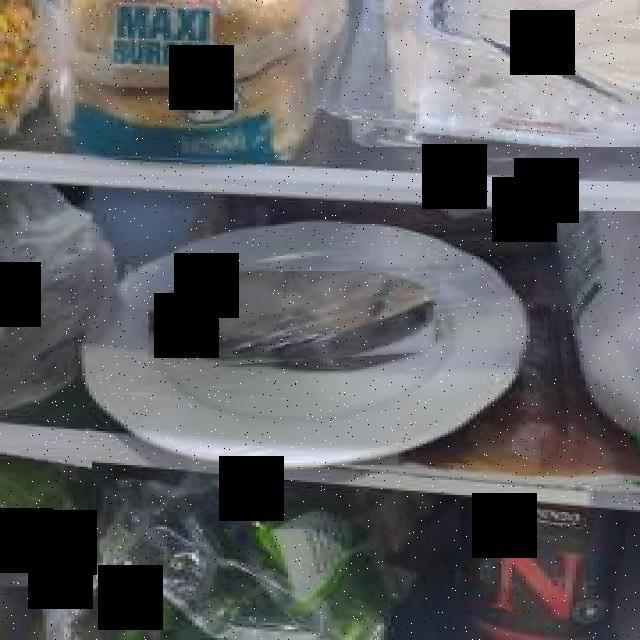cheese: (412, 0, 640, 77)
fish: (148, 271, 442, 371)
milk: (547, 211, 640, 486)
pineapple: (0, 0, 39, 141)
salad: (0, 450, 92, 586)
turkey: (320, 0, 640, 147)
